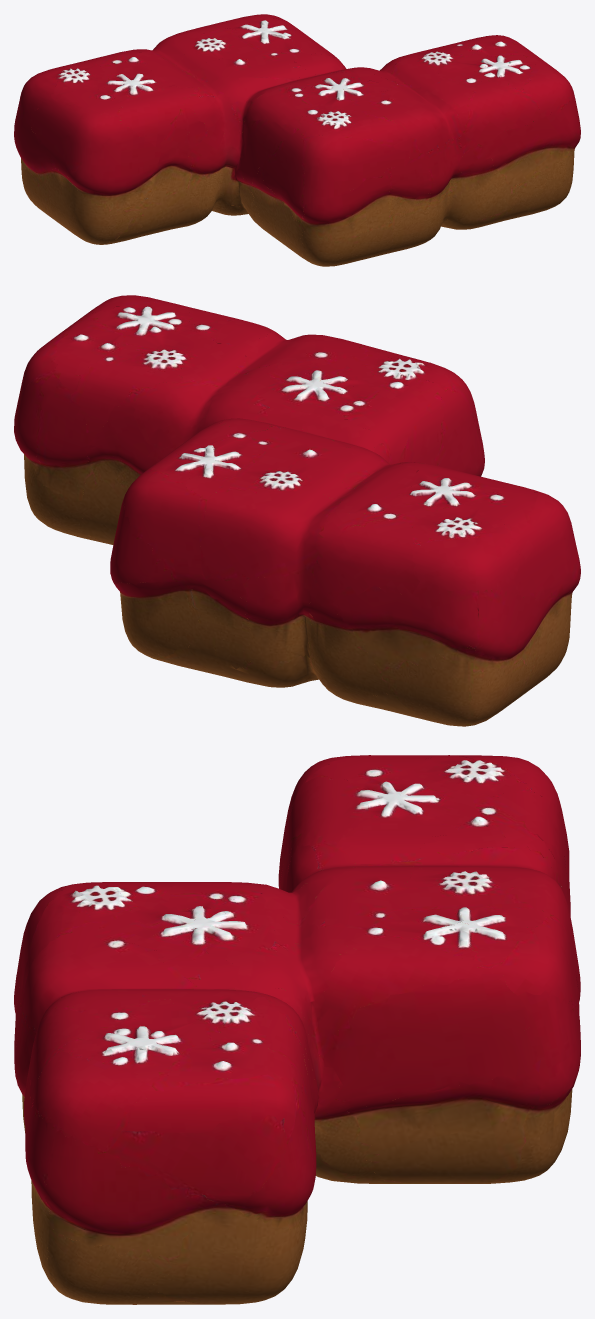
The model's file is prop-crimson-tree.glb.
3 renders of one model, top to bottom at view 1: azimuth 30°, elevation 25°; view 2: azimuth 150°, elevation 25°; view 3: azimuth 270°, elevation 25°, orthographic. The views are drawn at different scales.
Visible parts, largest first — view 1: Mesh_0; view 2: Mesh_0; view 3: Mesh_0.
Boxes of the visible parts, x1=… form: Mesh_0: x1=14, y1=14, x2=580, y2=266; Mesh_0: x1=14, y1=295, x2=580, y2=726; Mesh_0: x1=14, y1=755, x2=580, y2=1304.
Size of the model in its own units: 1.9 by 0.5966 by 1.25.
Materials: 1 (1 with a texture image).
